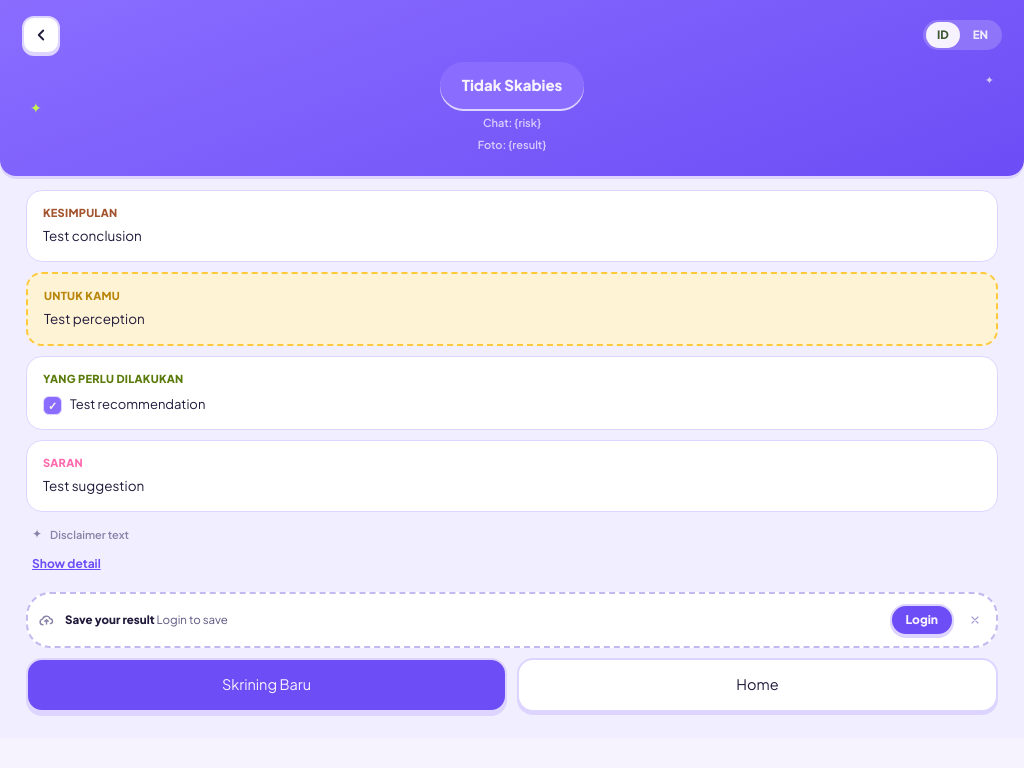
Test: ResultScreen › visual detection card display › displays disclaimer when visualPredictionFailed is true (Req 11.3, 8.3)
// Open detail panel
Click the button "Show detail": (66, 564) [26,556,107,572]
(page scrolled)
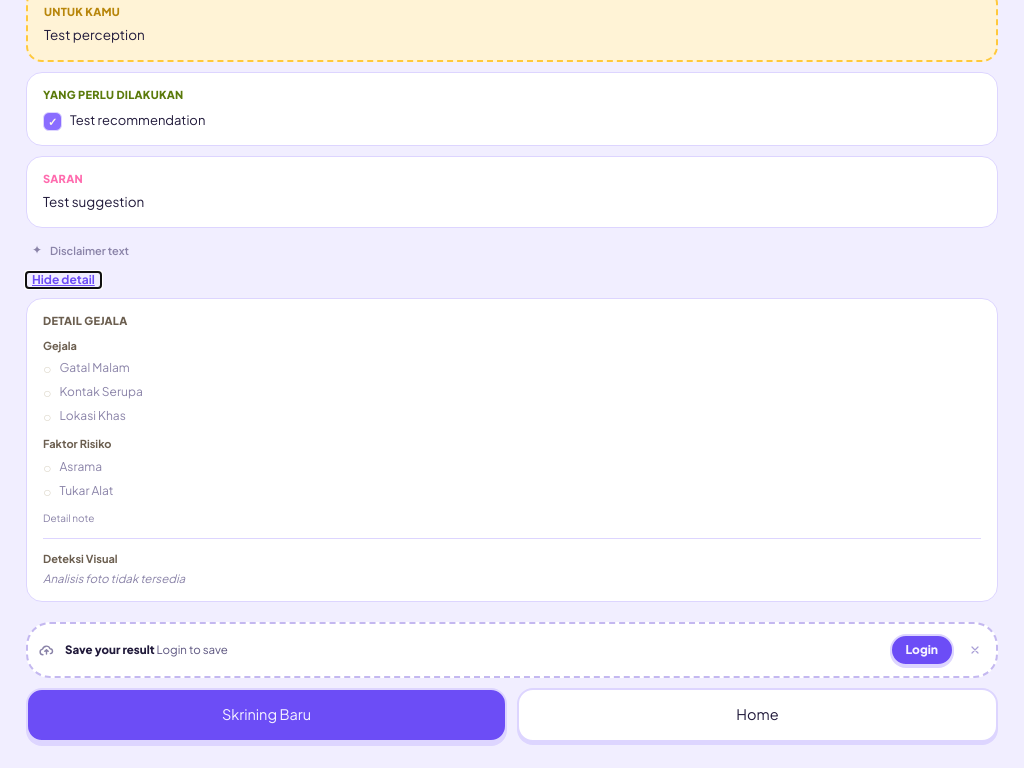
Expected: the text "Analisis foto tidak tersedia" is shown, [43,571,185,586]
